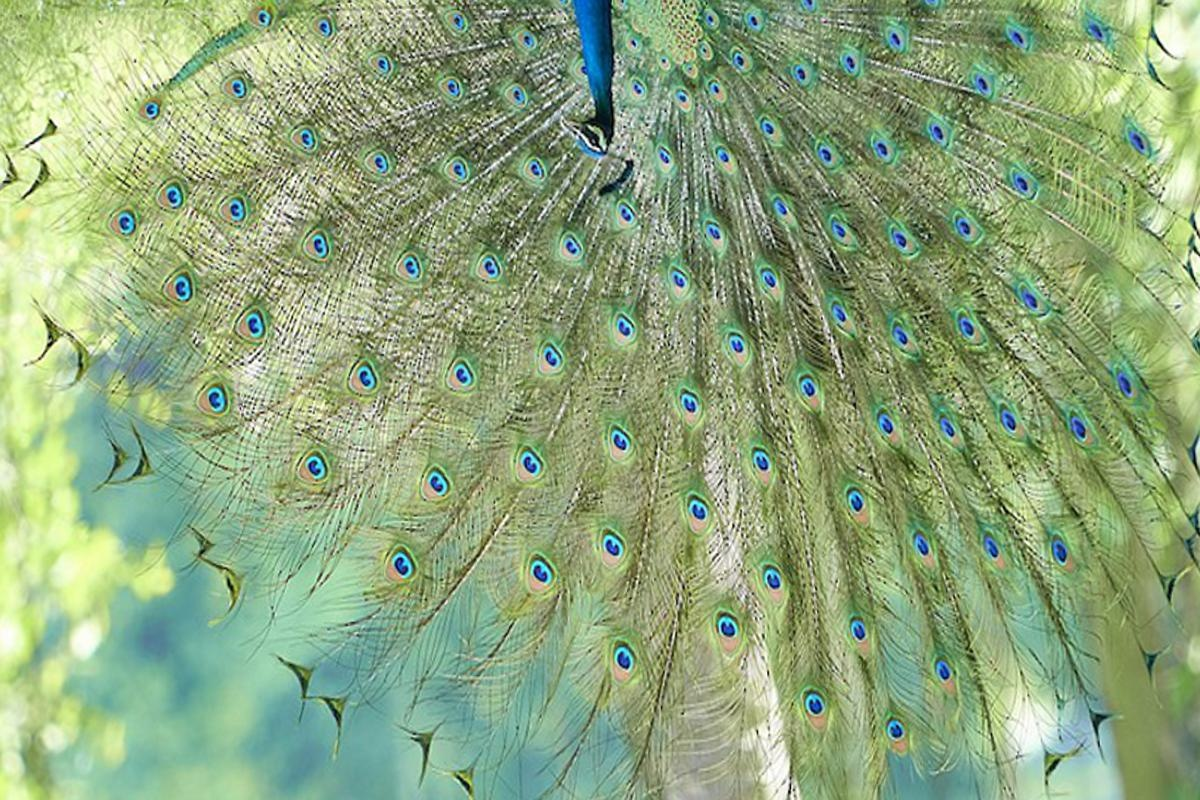peacock: (1, 1, 1116, 723)
